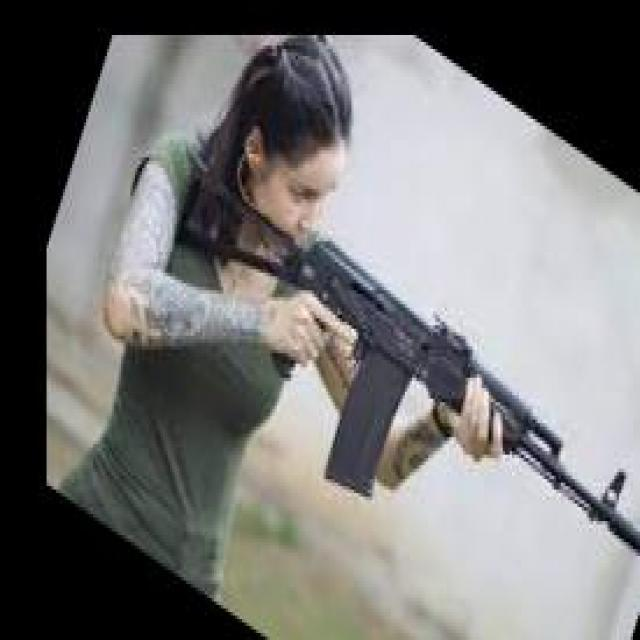weapon: (171, 159, 640, 556)
